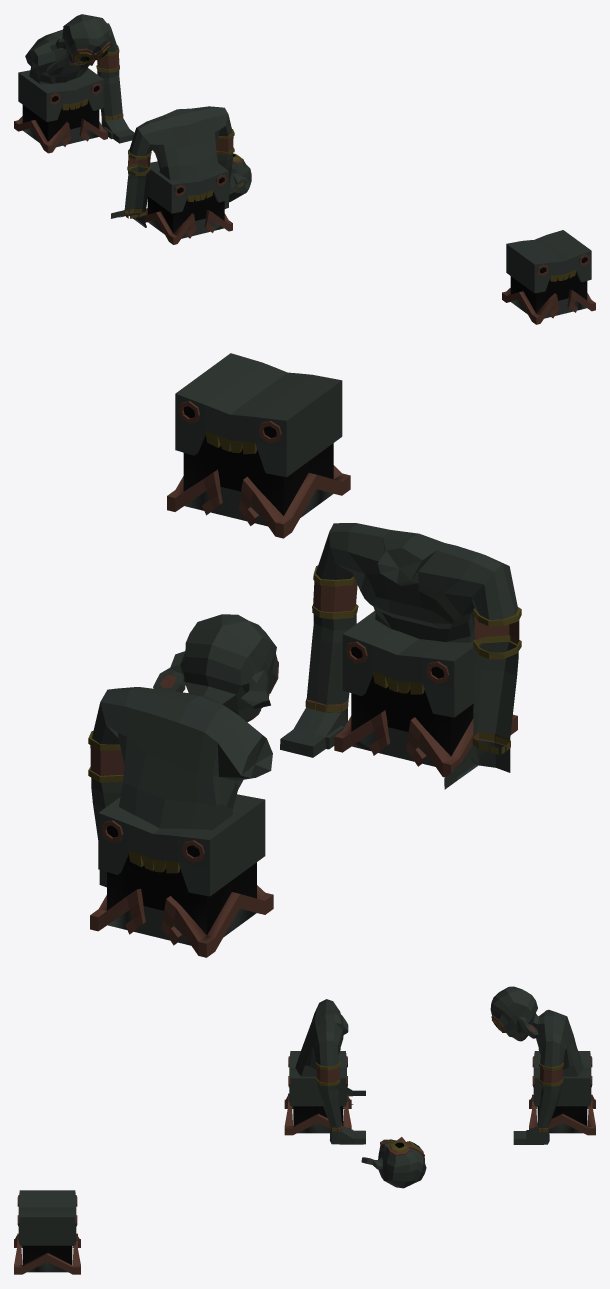
The model's file is Statue 2.fbx.
The picture shows the model from 3 angles, top to bottom: view 1: azimuth 30°, elevation 25°; view 2: azimuth 150°, elevation 25°; view 3: azimuth 270°, elevation 25°; orthographic projection. The views are drawn at different scales.
Visible parts, largest first — view 1: Cube.005, Cube.004, Cube.003, Cube.001, Cube.007, Cube.002; view 2: Cube.005, Cube.003, Cube.004, Cube.001, Cube.007; view 3: Cube.003, Cube.004, Cube.005, Cube.001, Cube.007, Cube.002.
Part boxes in pixels (left/top/right/bottom): Cube.005: left=111, top=106, right=234, bottom=227; Cube.004: left=502, top=230, right=595, bottom=324; Cube.003: left=25, top=14, right=134, bottom=143; Cube.001: left=14, top=68, right=107, bottom=153; Cube.007: left=145, top=161, right=232, bottom=244; Cube.002: left=228, top=153, right=251, bottom=202; Cube.005: left=280, top=523, right=521, bottom=789; Cube.003: left=88, top=614, right=278, bottom=887; Cube.004: left=167, top=353, right=350, bottom=538; Cube.001: left=90, top=794, right=273, bottom=957; Cube.007: left=334, top=611, right=517, bottom=777; Cube.003: left=490, top=986, right=583, bottom=1144; Cube.004: left=14, top=1190, right=80, bottom=1274; Cube.005: left=295, top=999, right=365, bottom=1144; Cube.001: left=529, top=1051, right=595, bottom=1135; Cube.007: left=284, top=1051, right=351, bottom=1135; Cube.002: left=361, top=1137, right=426, bottom=1188.
Size of the model in its own units: 2344 by 1228 by 3951.
